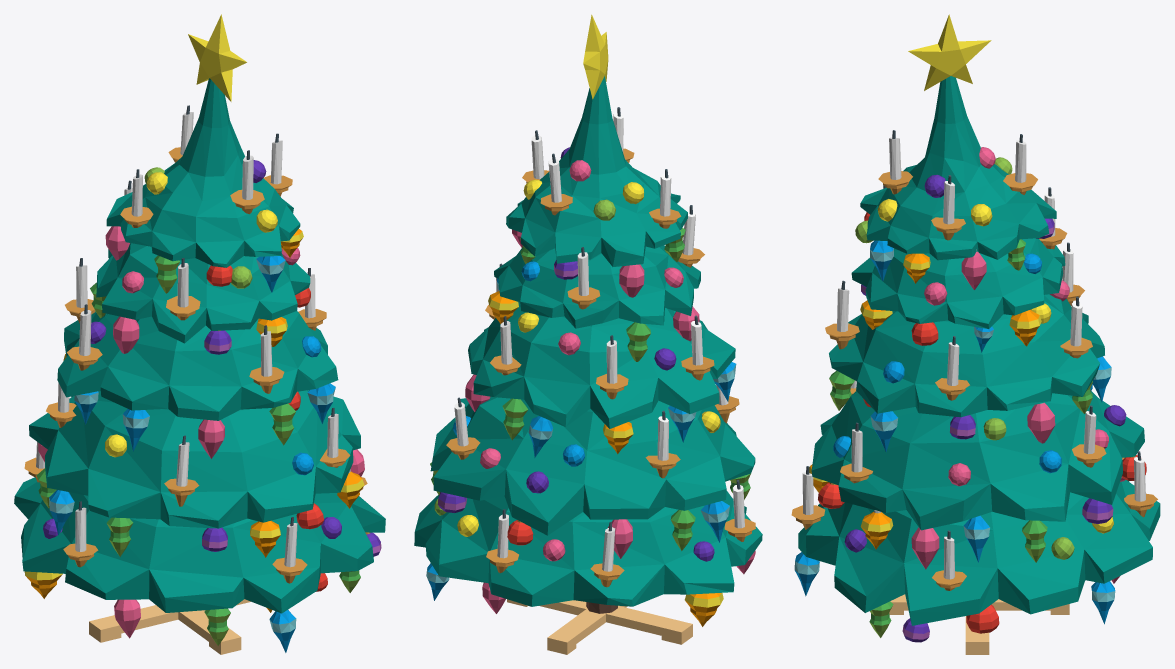
Rendered from christmasTree.dae.
3 views of the same model, side by side, from view 1: azimuth 30°, elevation 25°; view 2: azimuth 150°, elevation 25°; view 3: azimuth 270°, elevation 25° (orthographic). The views are drawn at different scales.
Parts seen in each view (by area): view 1: christmasTree; view 2: christmasTree; view 3: christmasTree.
Boxes of the visible parts, x1,y1,x2,y2 form: christmasTree: (14,14,385,654); christmasTree: (414,14,762,654); christmasTree: (791,14,1160,654).
Bounding box in the file's own units: 2.53 × 2.54 × 4.62.
